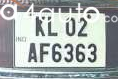0: (65, 17, 76, 37)
2: (77, 17, 89, 37)
3: (86, 44, 98, 63), (64, 43, 74, 63)
6: (50, 43, 63, 63), (75, 43, 87, 63)
A: (27, 43, 38, 63)
F: (38, 43, 50, 63)
K: (34, 16, 47, 37)
L: (46, 17, 58, 37)
